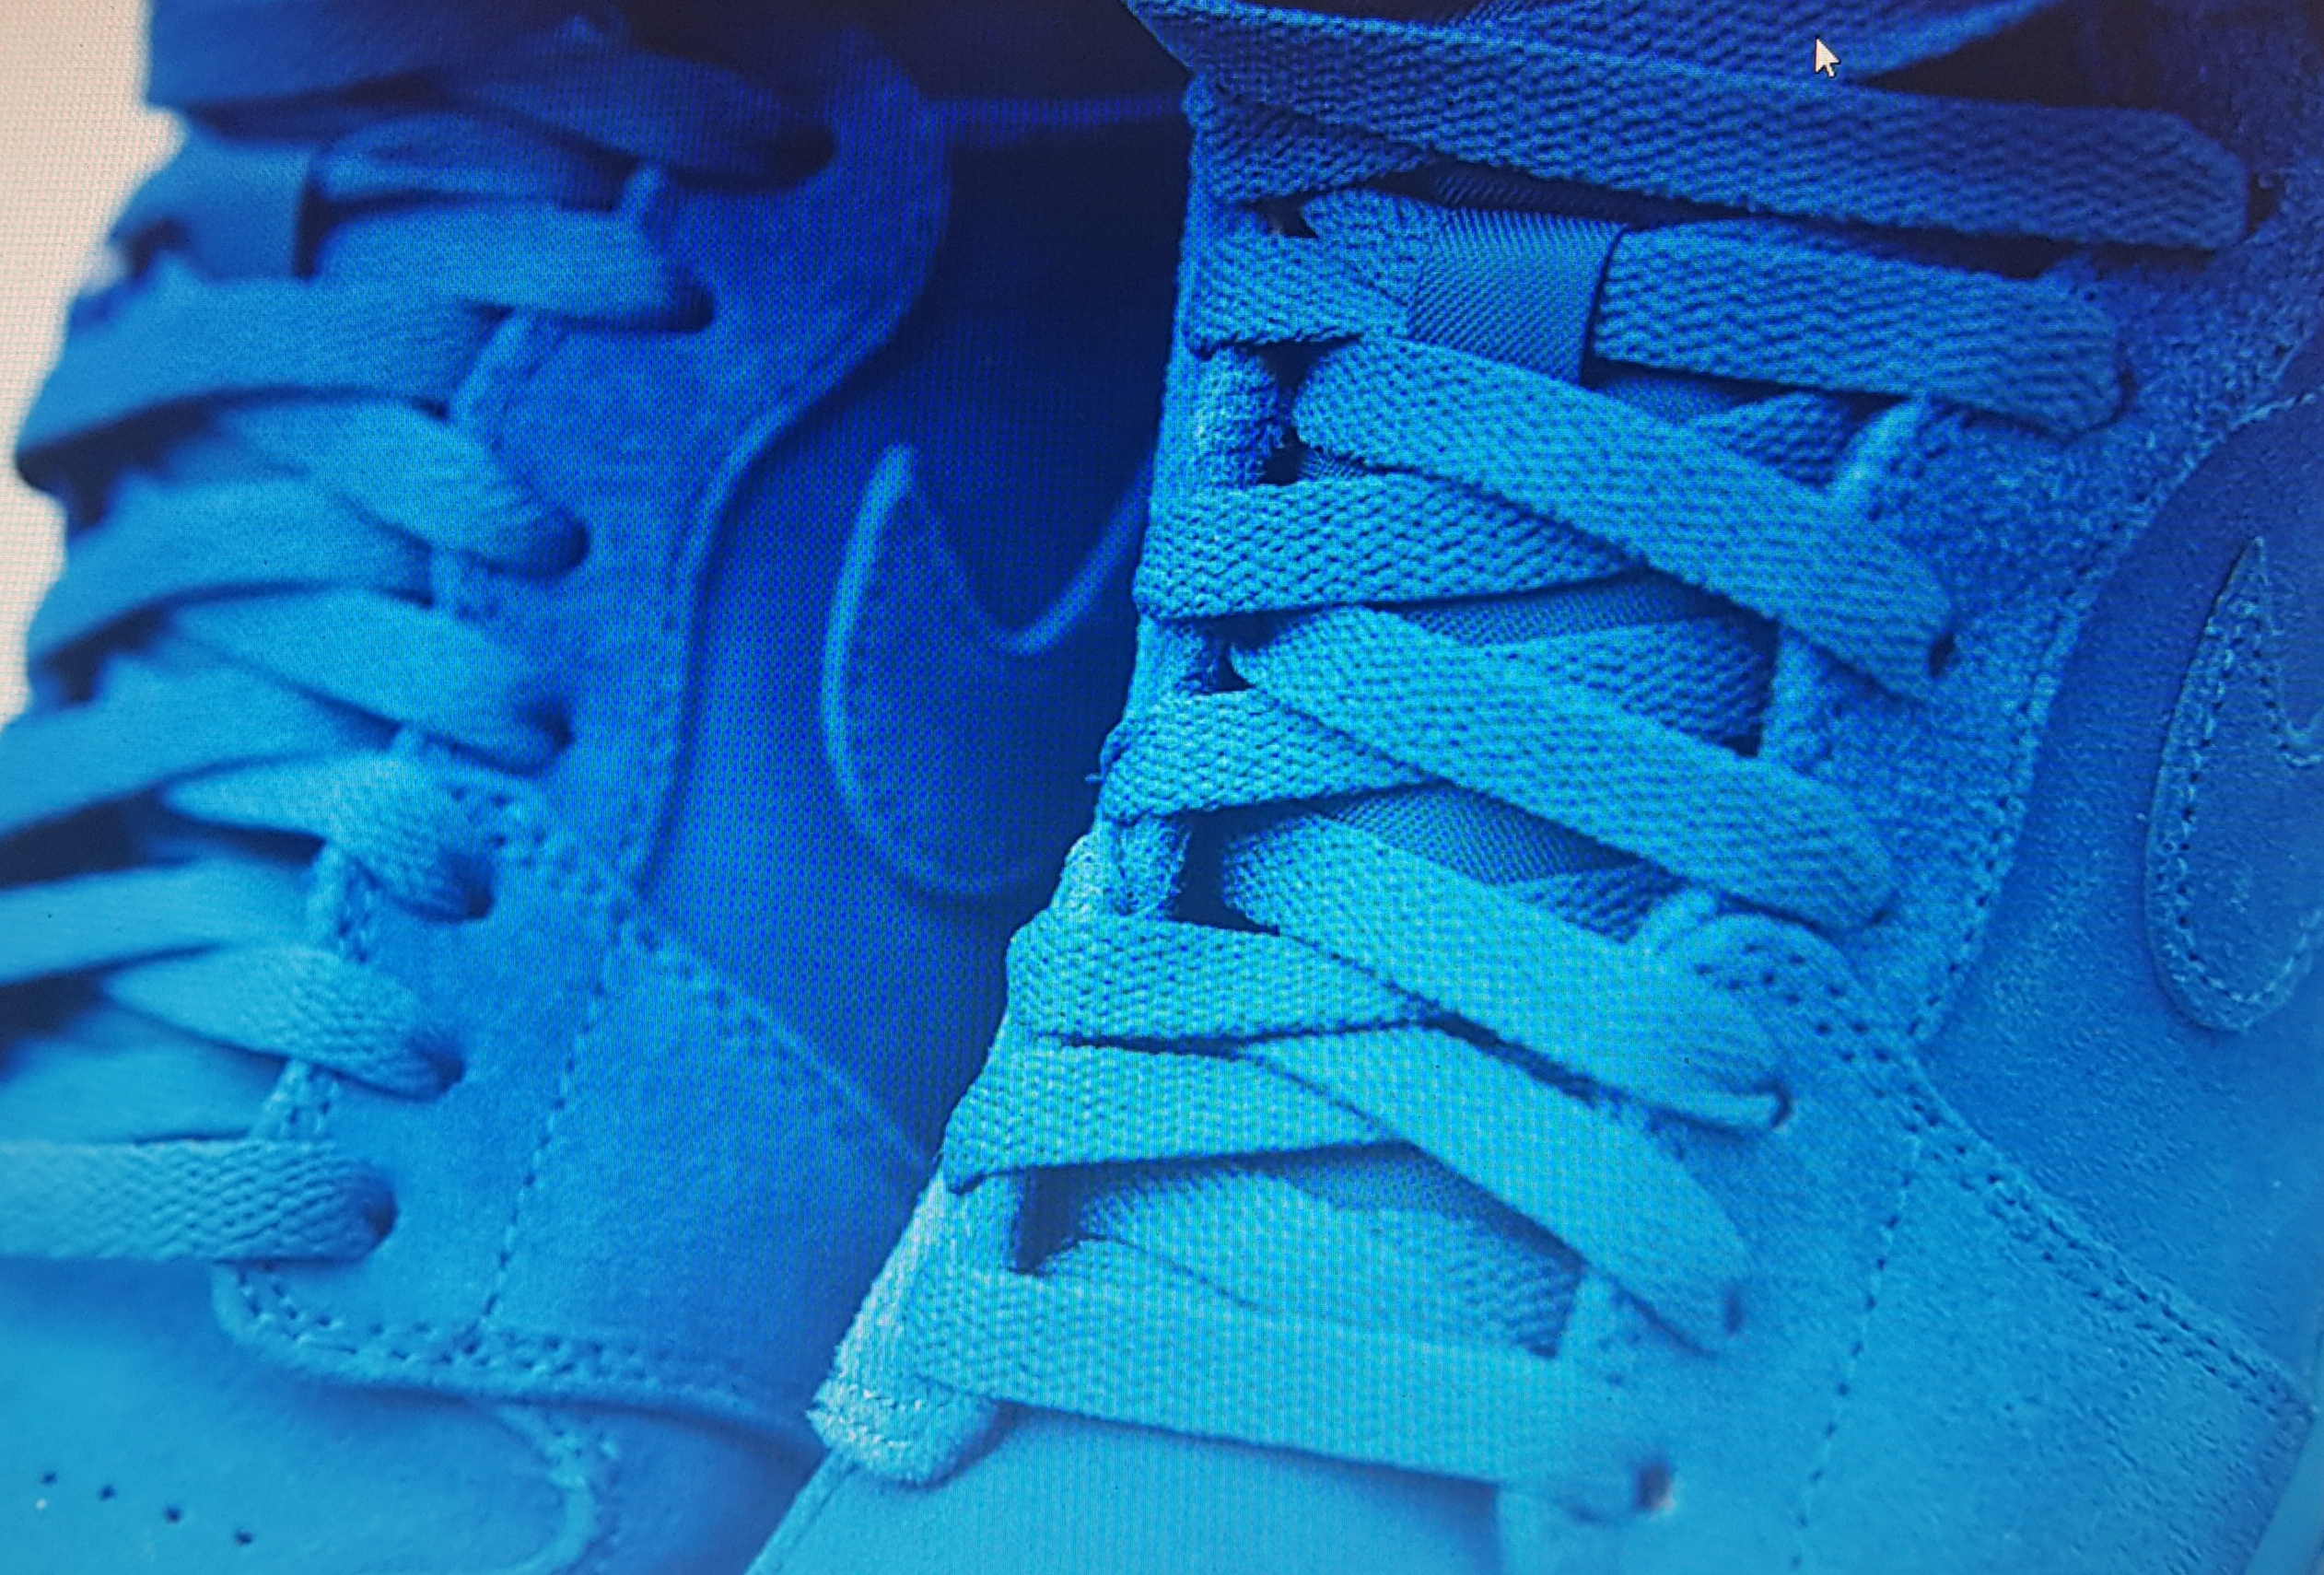Blue: (11, 9, 2310, 1561)
